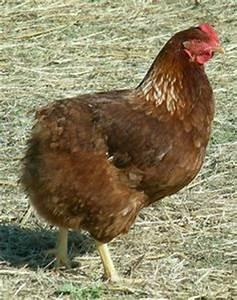hen: (16, 21, 225, 287)
